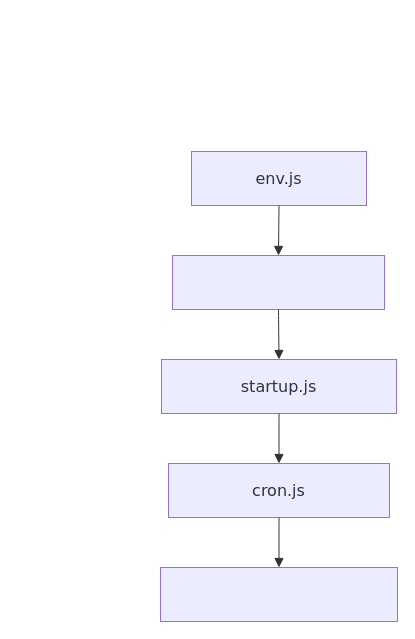
Image size: 415x639. Some labels were removed from this diagram. Here are the shapes that lost their labels. From the top down, the centre of each, then its label:
At (278,282): "filesystem.js".
At (279,594): "Bootstrap Complete".
